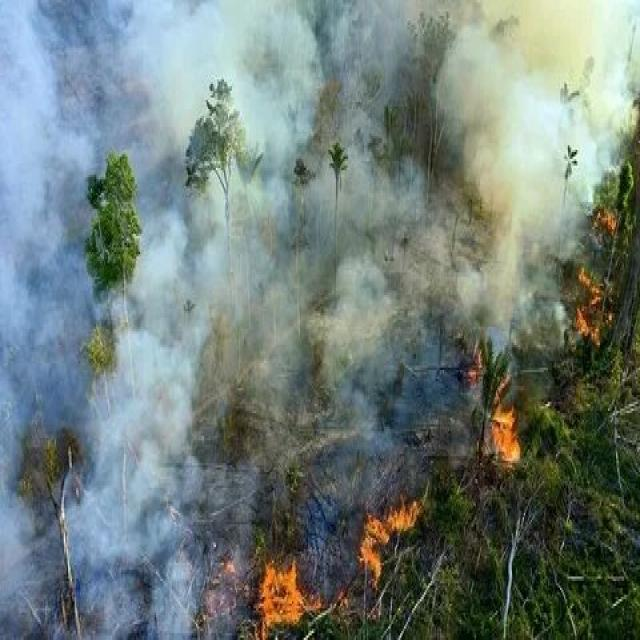Fire: (336, 474, 478, 628), (444, 312, 560, 500), (180, 519, 362, 638)
Smoke: (0, 0, 640, 313), (0, 0, 229, 640)
